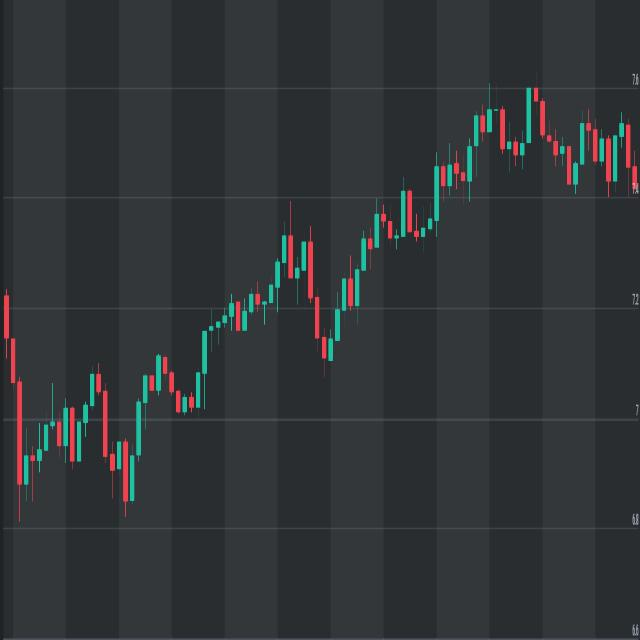Channel-up: (9, 20, 640, 600)
